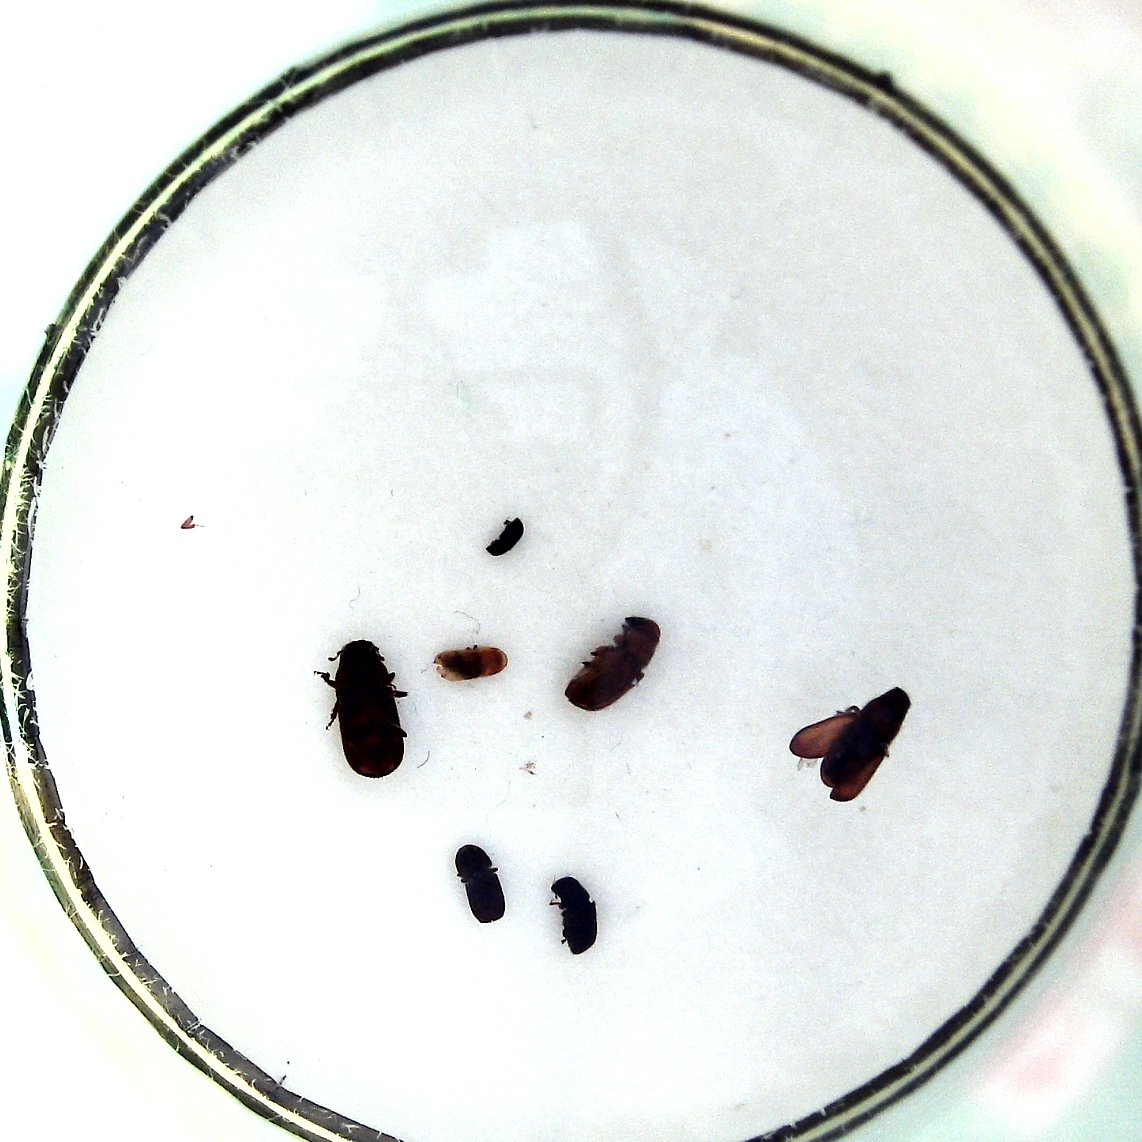Leconte: (787, 688, 913, 805), (326, 637, 410, 780), (557, 611, 664, 714)
Linnaeus: (453, 839, 510, 926)
acuminatus: (426, 642, 510, 683)
armandi: (548, 870, 600, 954)
coleoptera: (485, 516, 528, 557)
